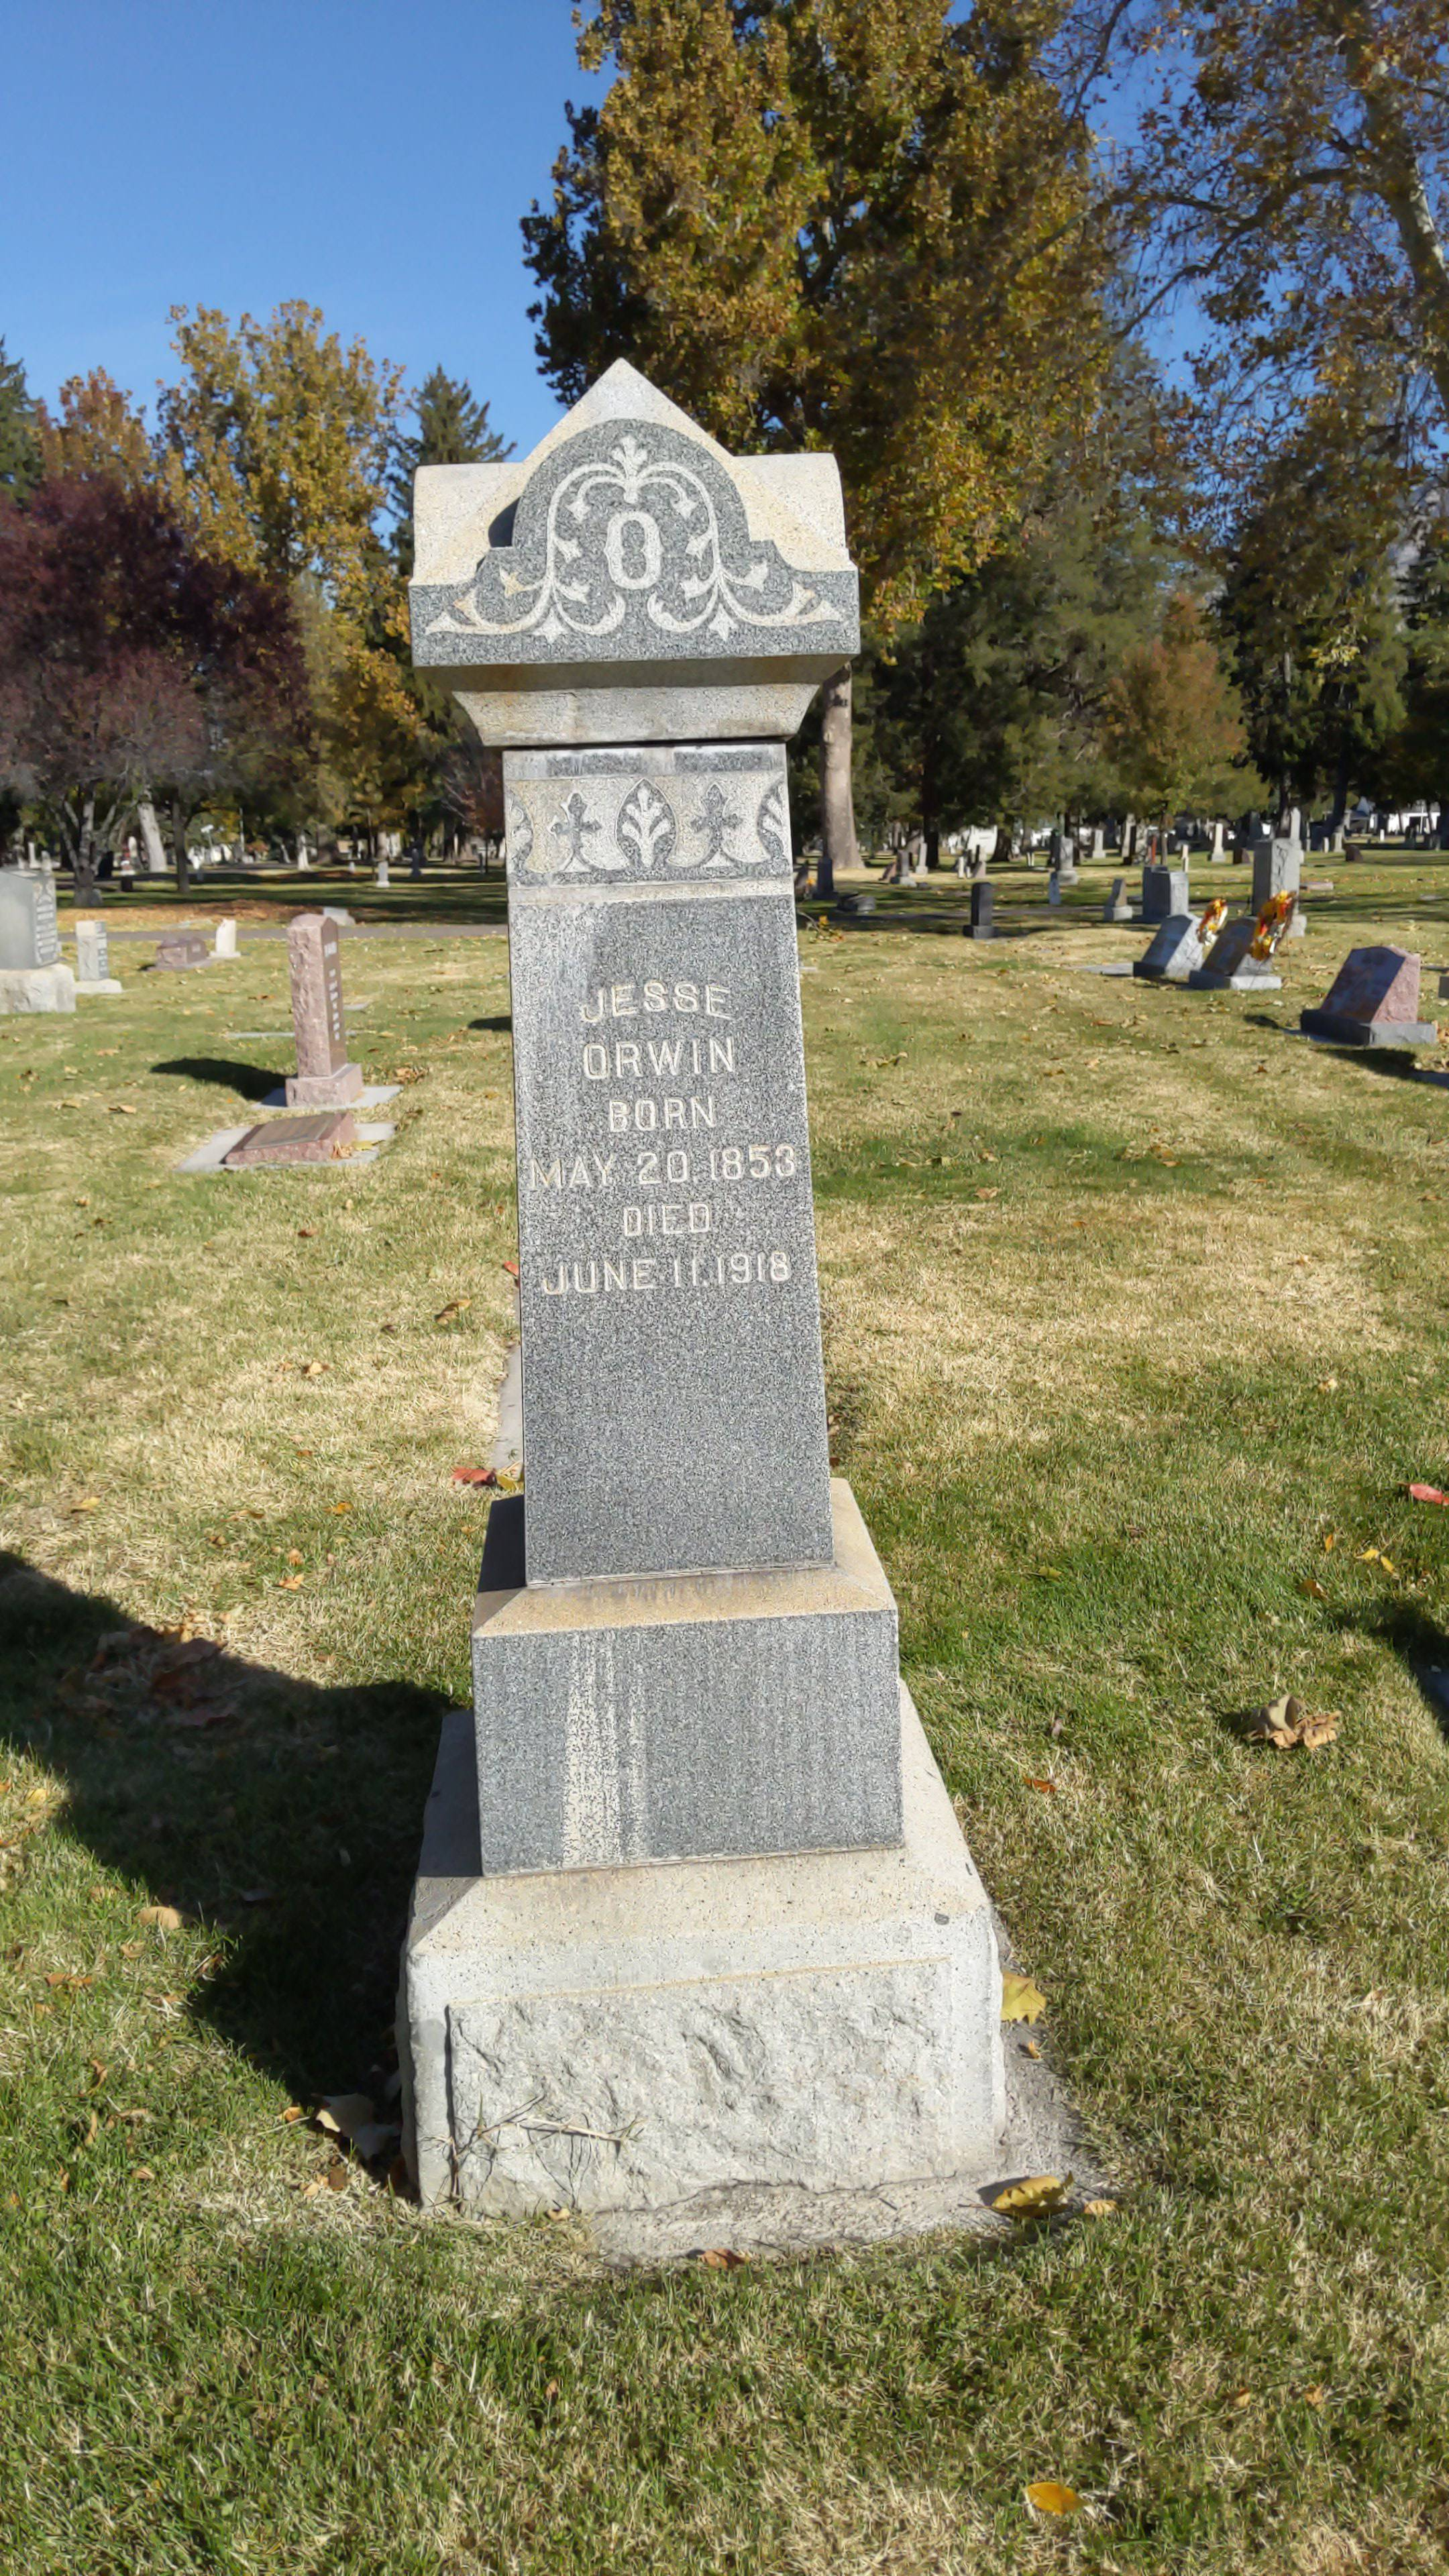obelisk: (402, 361, 908, 1863)
